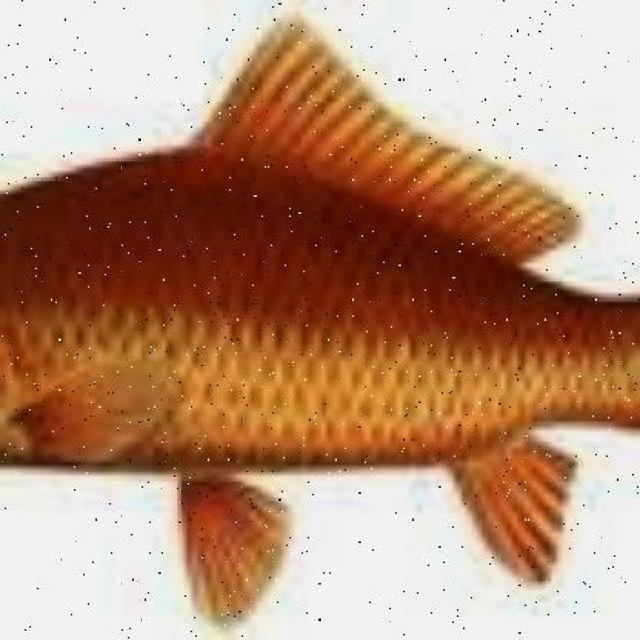ikan-mas: (0, 18, 631, 556)
